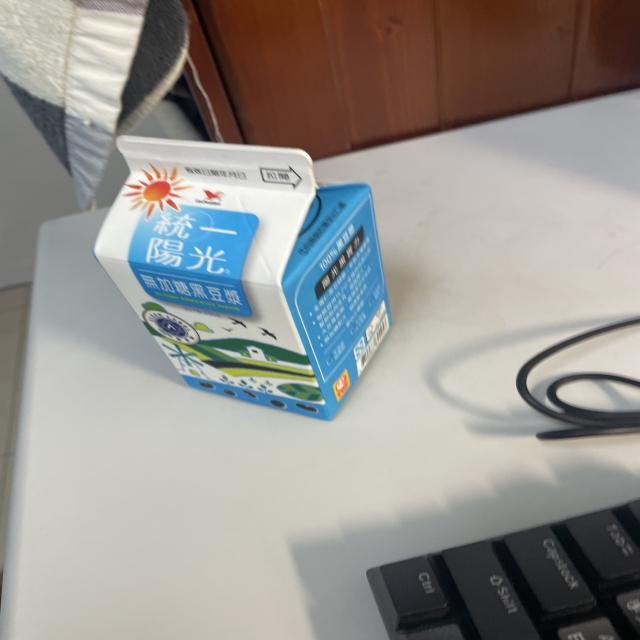TongYi_UnsweetenedBlackSoyMilk: (98, 131, 403, 420)
